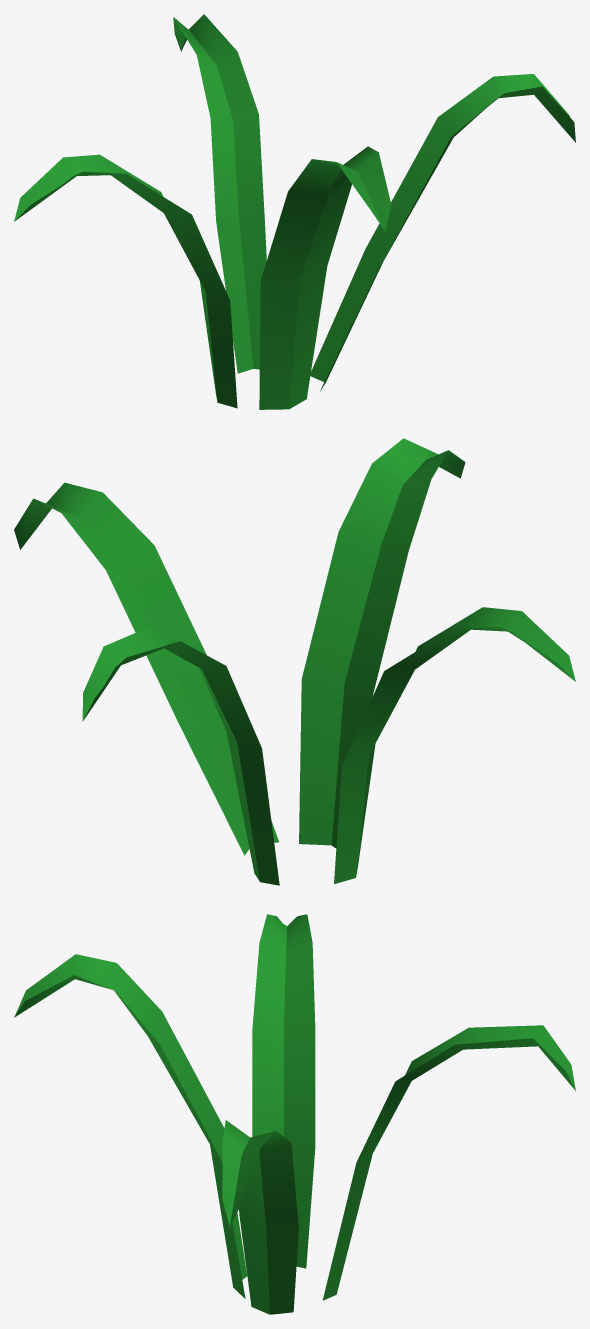
File: SM_Corn_Growing1.fbx
3 renders of one model, top to bottom at view 1: azimuth 30°, elevation 25°; view 2: azimuth 150°, elevation 25°; view 3: azimuth 270°, elevation 25°, orthographic. The views are drawn at different scales.
Parts seen in each view (by area): view 1: SM_Corn_Growing1; view 2: SM_Corn_Growing1; view 3: SM_Corn_Growing1.
Boxes of the visible parts, x1,y1,x2,y2 form: SM_Corn_Growing1: (14,14,575,409); SM_Corn_Growing1: (14,438,575,885); SM_Corn_Growing1: (14,914,575,1314).
Size of the model in its own units: 40.7 by 22.65 by 36.22.
